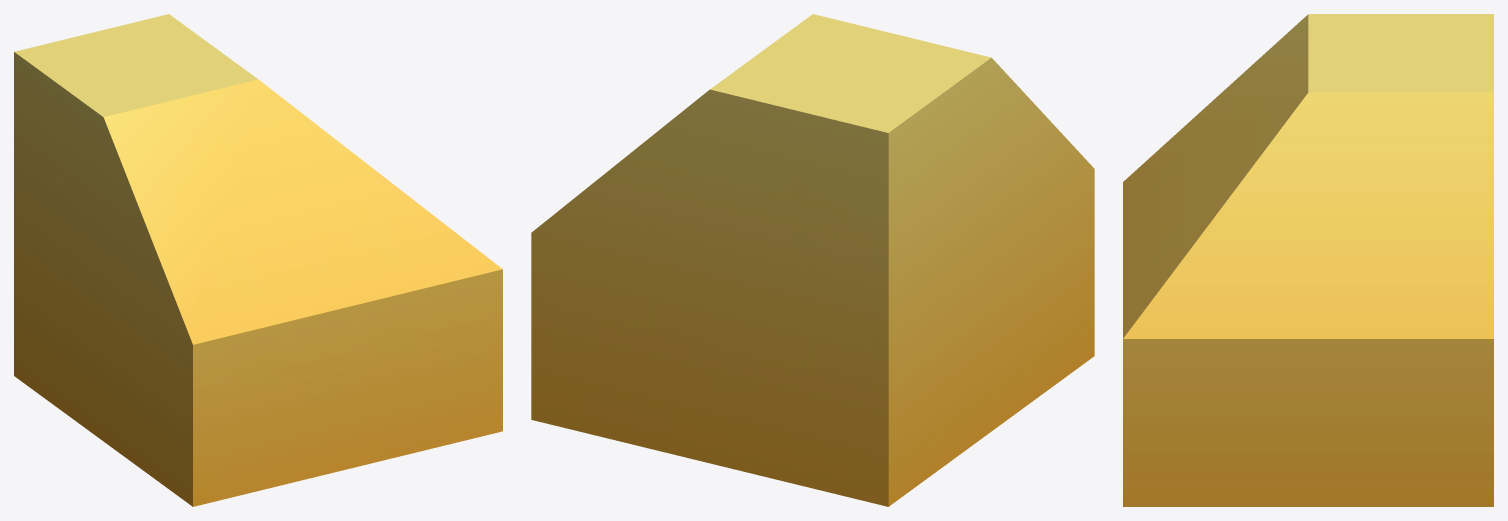
The model's file is primitive-slope-half-outer-corner.glb.
3 views of the same model, side by side, from view 1: azimuth 30°, elevation 25°; view 2: azimuth 150°, elevation 25°; view 3: azimuth 270°, elevation 25° (orthographic). The views are drawn at different scales.
Parts seen in each view (by area): view 1: Primitive_Slope_Half_OuterCorner; view 2: Primitive_Slope_Half_OuterCorner; view 3: Primitive_Slope_Half_OuterCorner.
Part boxes in pixels (<box>): Primitive_Slope_Half_OuterCorner: <box>14,14,502,506</box>; Primitive_Slope_Half_OuterCorner: <box>531,14,1094,506</box>; Primitive_Slope_Half_OuterCorner: <box>1123,14,1493,506</box>.
Bounding box in the file's own units: 4 × 4 × 4.
Materials: 1 (1 with a texture image).
